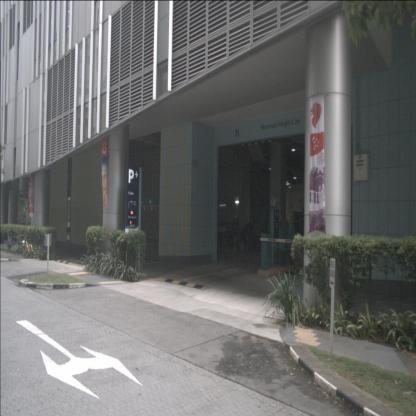vehicle-bicycle: (21, 234, 34, 259)
